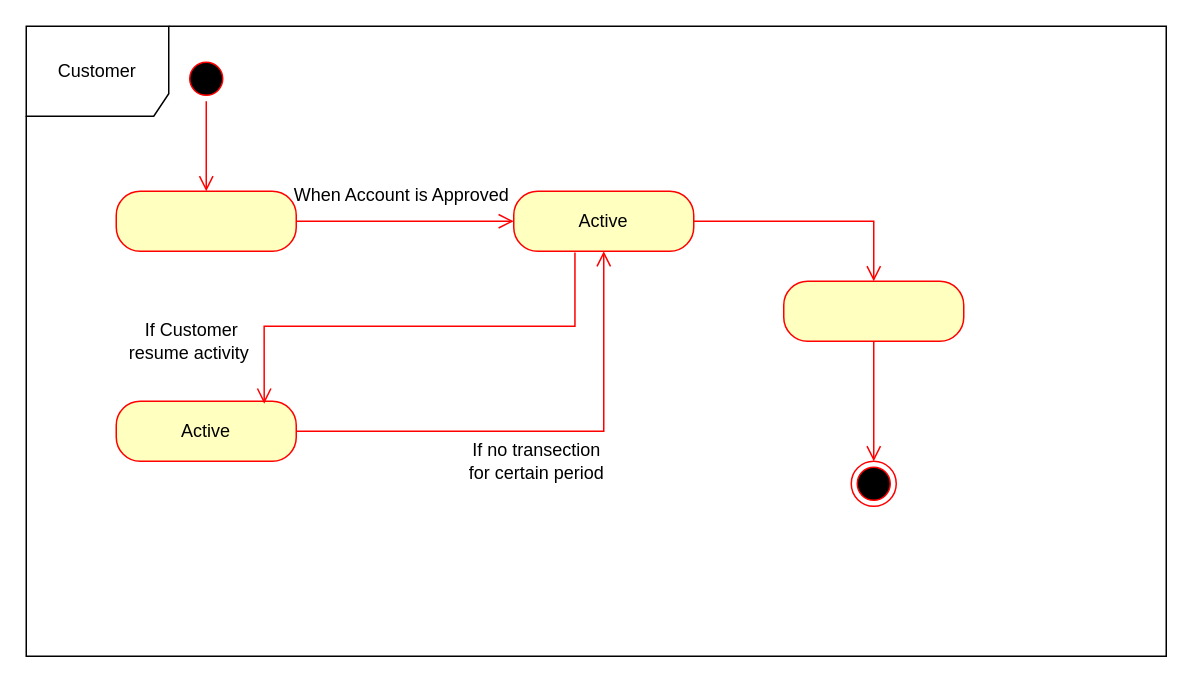
This 1193x683 diagram has some shape labels left out. Here are the shapes that lost their labels. From the top down, the centre of each, then its label:
At (x=205, y=220): "New".
At (x=873, y=310): "Remove".
